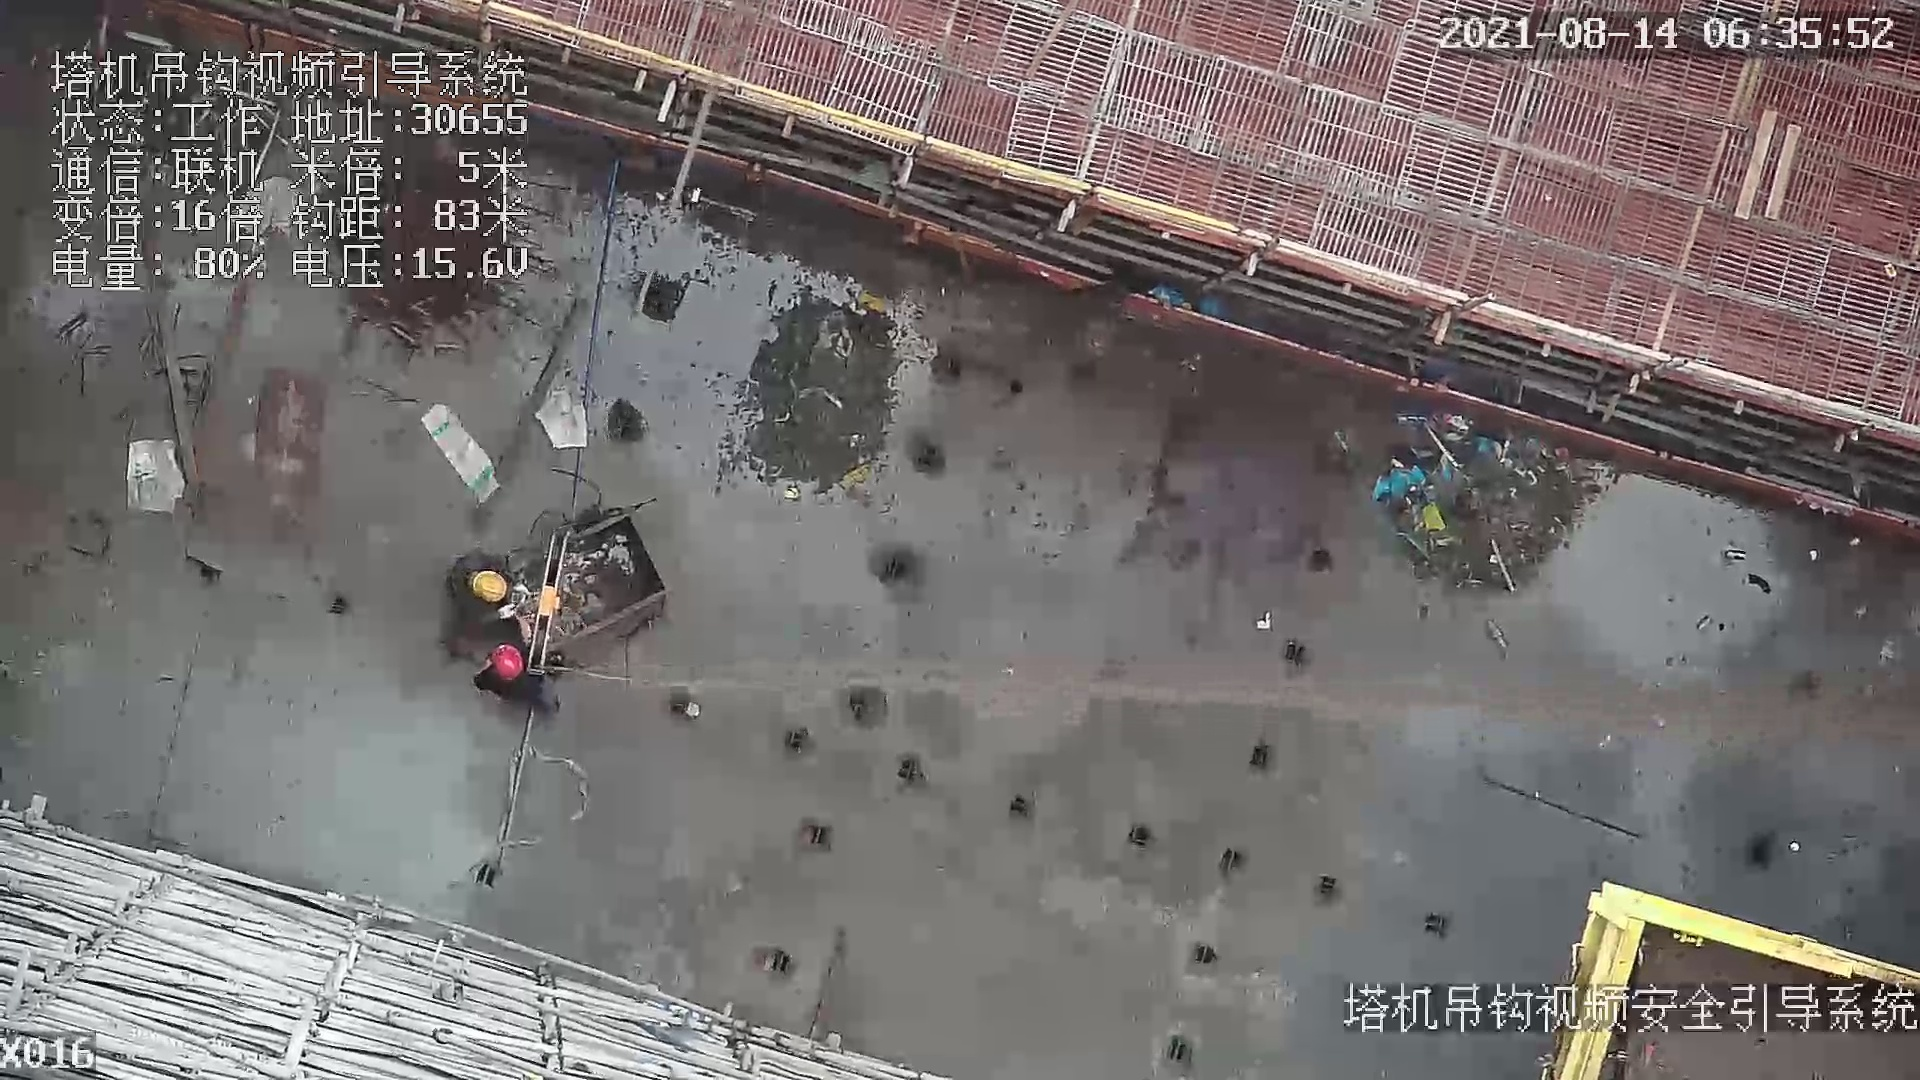helmet: (490, 645, 531, 687), (469, 571, 510, 603)
hook: (524, 530, 572, 676)
hopper: (526, 486, 682, 692)
person: (472, 635, 569, 719), (441, 546, 531, 624)
